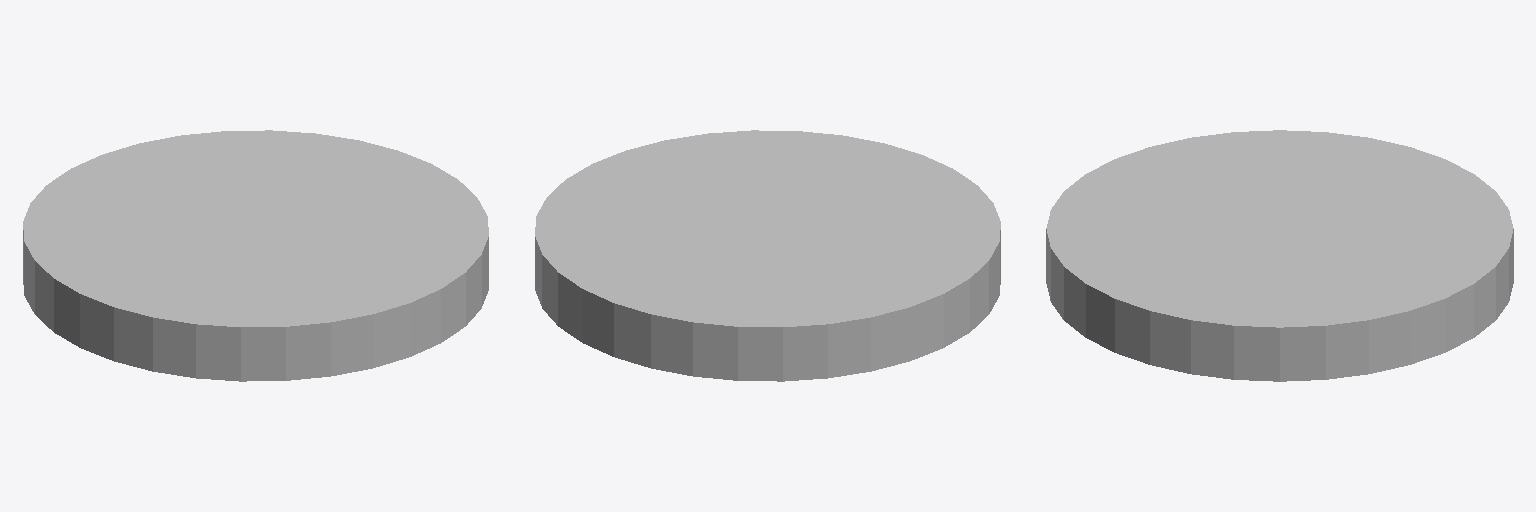
File: Collider.obj
3 views of the same model, side by side, from view 1: azimuth 30°, elevation 25°; view 2: azimuth 150°, elevation 25°; view 3: azimuth 270°, elevation 25° (orthographic).
Parts seen in each view (by area): view 1: Cylinder; view 2: Cylinder; view 3: Cylinder.
Boxes of the visible parts, x1=… form: Cylinder: x1=23, y1=130, x2=488, y2=381; Cylinder: x1=535, y1=130, x2=1000, y2=381; Cylinder: x1=1046, y1=130, x2=1513, y2=381.
Bounding box in the file's own units: 1.44 × 0.1841 × 1.44.